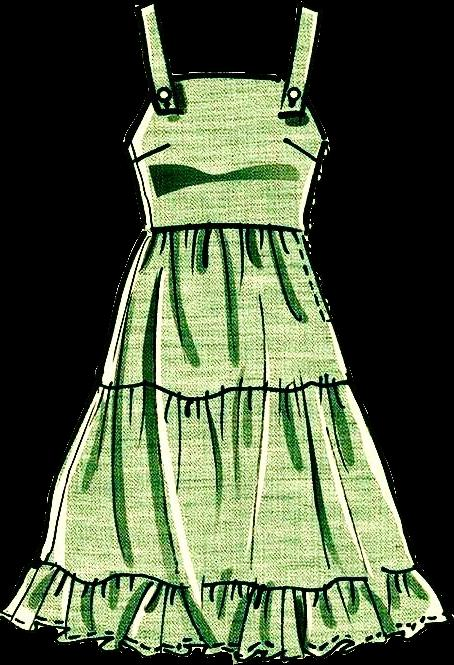Bodice: (128, 4, 322, 232)
Hemline: (1, 610, 453, 664)
Neckline: (148, 1, 303, 86)
Skirt: (1, 223, 445, 662)
Waistline: (37, 555, 421, 594), (97, 376, 350, 405), (139, 220, 306, 239)
